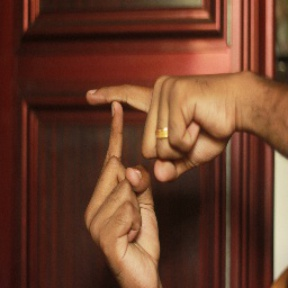T: (58, 68, 185, 210)
